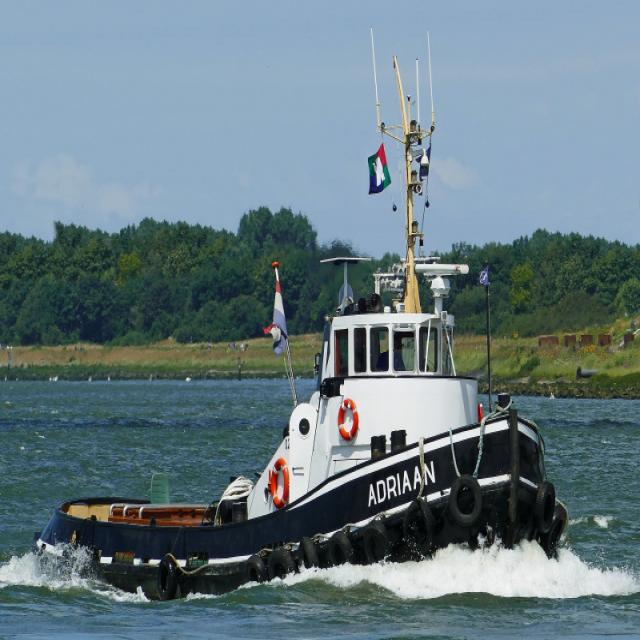tugboat: (32, 243, 575, 609)
